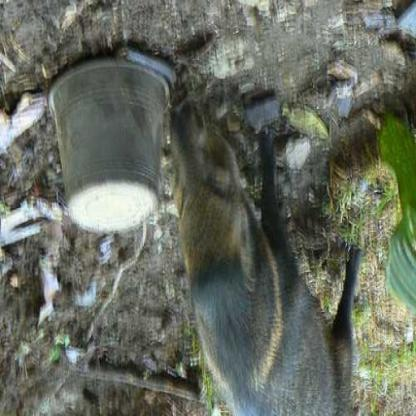boar: (167, 61, 415, 416)
